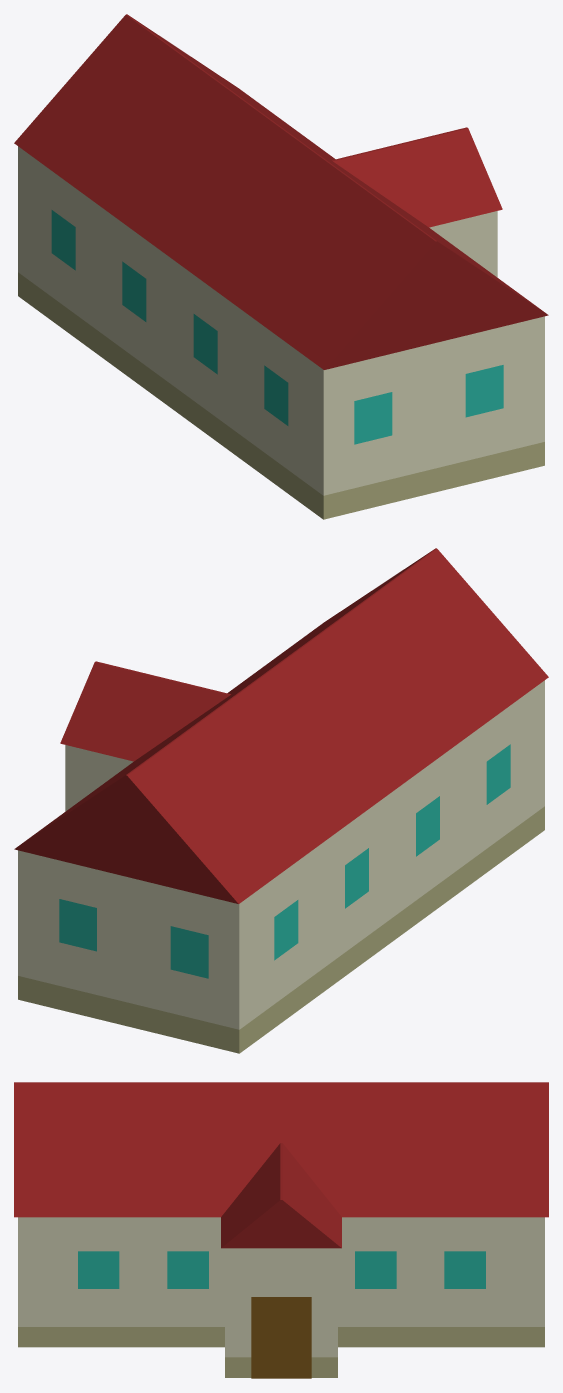
Rendered from House2.gltf.
3 renders of one model, top to bottom at view 1: azimuth 30°, elevation 25°; view 2: azimuth 150°, elevation 25°; view 3: azimuth 270°, elevation 25°, orthographic. The views are drawn at different scales.
Parts seen in each view (by area): view 1: House2; view 2: House2; view 3: House2.
Part boxes in pixels (<box>): House2: <box>14,14,548,519</box>; House2: <box>14,548,548,1053</box>; House2: <box>14,1082,548,1378</box>.
Bounding box in the file's own units: 1.83 × 1.48 × 3.29.
